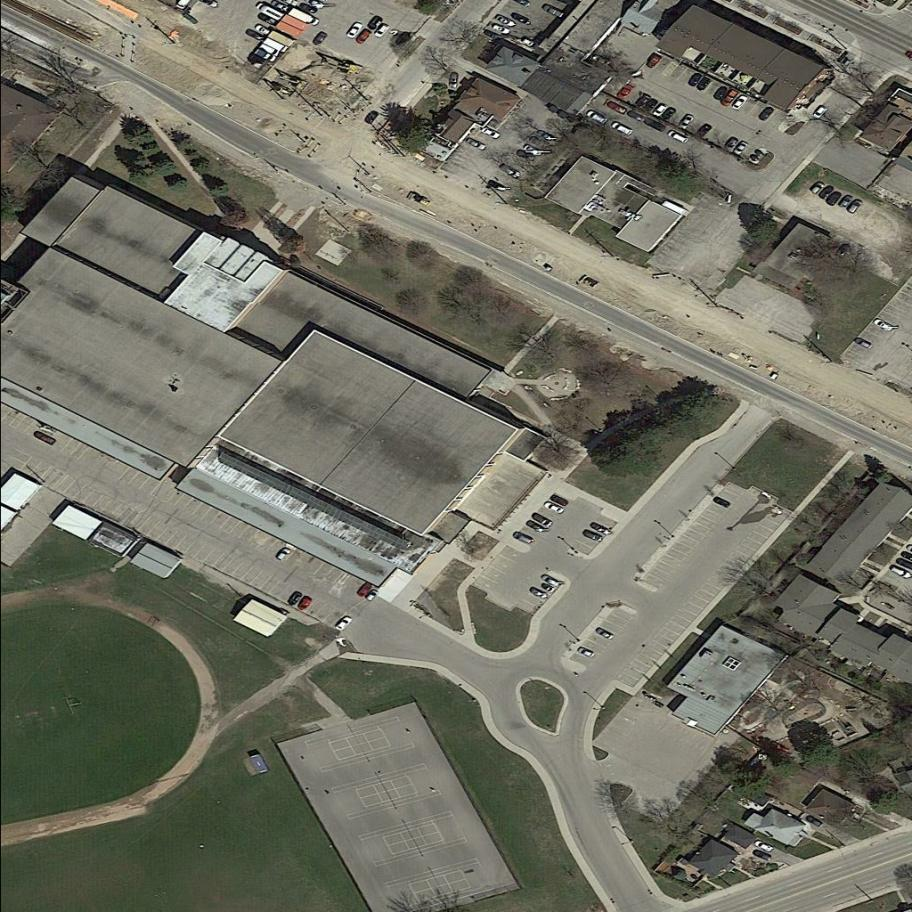large-vehicle: (289, 7, 322, 28), (255, 1, 285, 20)
small-vehicle: (497, 161, 522, 181), (263, 36, 289, 54), (615, 81, 636, 103), (530, 510, 554, 529), (33, 429, 58, 447), (541, 2, 565, 20), (642, 116, 667, 133), (524, 519, 547, 537), (589, 520, 612, 538), (372, 21, 392, 41), (611, 119, 633, 137), (720, 87, 738, 109), (512, 530, 535, 547), (756, 104, 775, 124), (354, 27, 373, 47), (495, 13, 517, 30), (590, 52, 612, 69), (529, 134, 551, 151), (534, 127, 556, 144), (751, 848, 774, 864), (258, 41, 281, 57), (335, 615, 354, 634), (804, 812, 824, 830), (677, 113, 695, 133), (730, 93, 748, 113), (606, 98, 626, 116), (646, 52, 664, 72), (312, 29, 330, 49), (873, 317, 894, 334), (515, 147, 536, 164), (244, 26, 265, 43), (585, 108, 607, 124), (528, 586, 550, 602), (257, 10, 279, 26), (365, 14, 383, 33), (667, 128, 688, 144), (510, 11, 532, 26), (486, 179, 508, 194), (255, 48, 277, 63), (695, 122, 713, 140), (634, 92, 652, 110), (357, 580, 374, 599), (712, 83, 729, 102), (595, 626, 615, 642), (286, 591, 303, 609), (297, 595, 314, 613), (661, 104, 678, 122), (847, 197, 863, 216), (540, 573, 560, 588), (481, 126, 501, 141), (625, 108, 645, 123), (522, 143, 542, 158), (543, 501, 564, 515), (275, 545, 291, 563), (687, 70, 703, 88), (826, 189, 842, 207), (696, 76, 712, 94), (712, 494, 731, 509), (755, 838, 774, 853), (550, 493, 569, 508), (854, 336, 873, 351), (347, 21, 362, 40), (491, 23, 511, 37), (466, 137, 486, 151), (581, 530, 604, 542), (642, 96, 658, 113), (364, 108, 379, 126), (576, 646, 595, 660), (298, 2, 317, 16), (810, 179, 826, 195), (819, 183, 835, 199), (734, 140, 749, 157), (653, 102, 668, 118), (813, 104, 828, 120), (539, 582, 556, 596), (725, 135, 739, 151), (838, 193, 852, 209), (254, 23, 271, 36), (520, 36, 536, 49), (366, 589, 379, 603), (449, 71, 459, 89)
